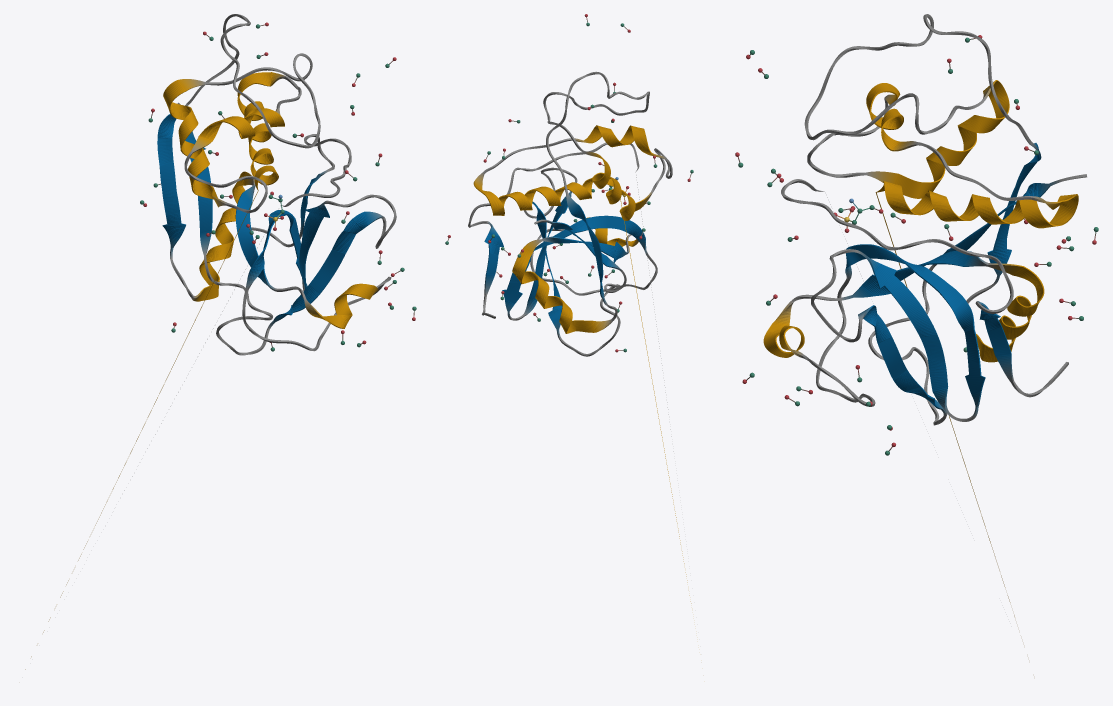
Rendered from 9pap.fbx.
The picture shows the model from 3 angles, left to right: view 1: azimuth 30°, elevation 25°; view 2: azimuth 150°, elevation 25°; view 3: azimuth 270°, elevation 25°; orthographic projection. The views are drawn at different scales.
Visible parts, largest first — view 1: curMeshall_9pap_A_CartoonMesh, curMeshHyperballExportedMesh; view 2: curMeshall_9pap_A_CartoonMesh, curMeshHyperballExportedMesh; view 3: curMeshall_9pap_A_CartoonMesh, curMeshHyperballExportedMesh.
Boxes of the visible parts, box(x1,y1,x2,y2) form: curMeshall_9pap_A_CartoonMesh: box(25, 14, 396, 669); curMeshHyperballExportedMesh: box(140, 22, 416, 351); curMeshall_9pap_A_CartoonMesh: box(468, 71, 691, 603); curMeshHyperballExportedMesh: box(445, 14, 693, 352); curMeshall_9pap_A_CartoonMesh: box(763, 14, 1086, 616); curMeshHyperballExportedMesh: box(735, 35, 1098, 455).
Size of the model in its own units: 48.31 by 95.64 by 40.54.
